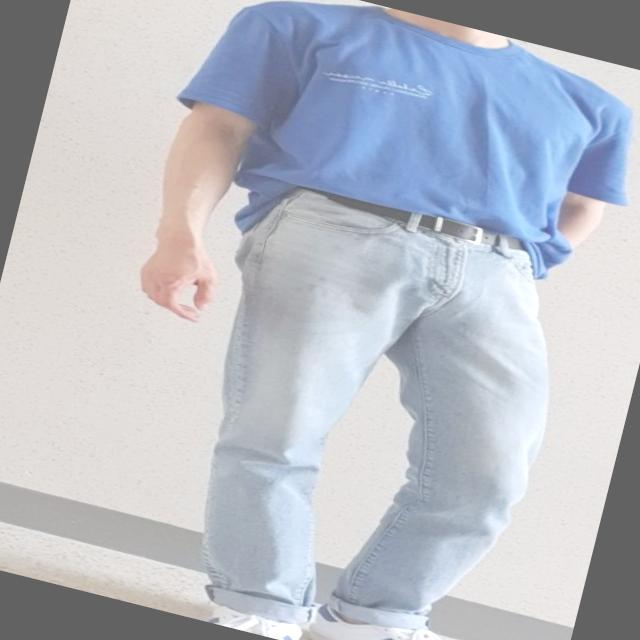denimpants: (150, 176, 591, 640)
shortsleeve: (149, 0, 640, 297)
